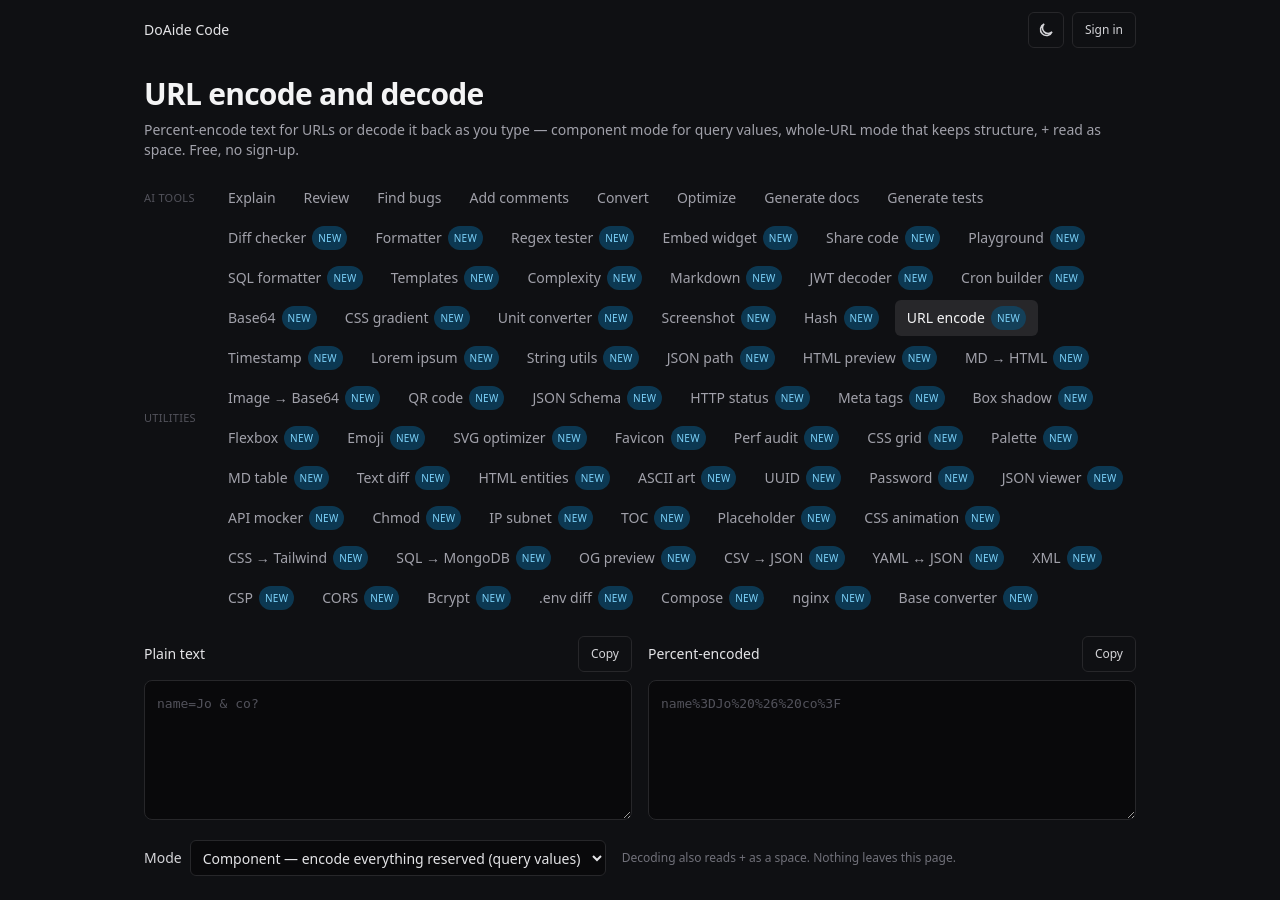
Test case: UrlPage › keeps URL structure in whole-URL mode
Type "https://x.com/a b?q=1" into the text box with test id "url-plain". click: (388, 750)
box: left=144, top=680, right=632, bottom=820
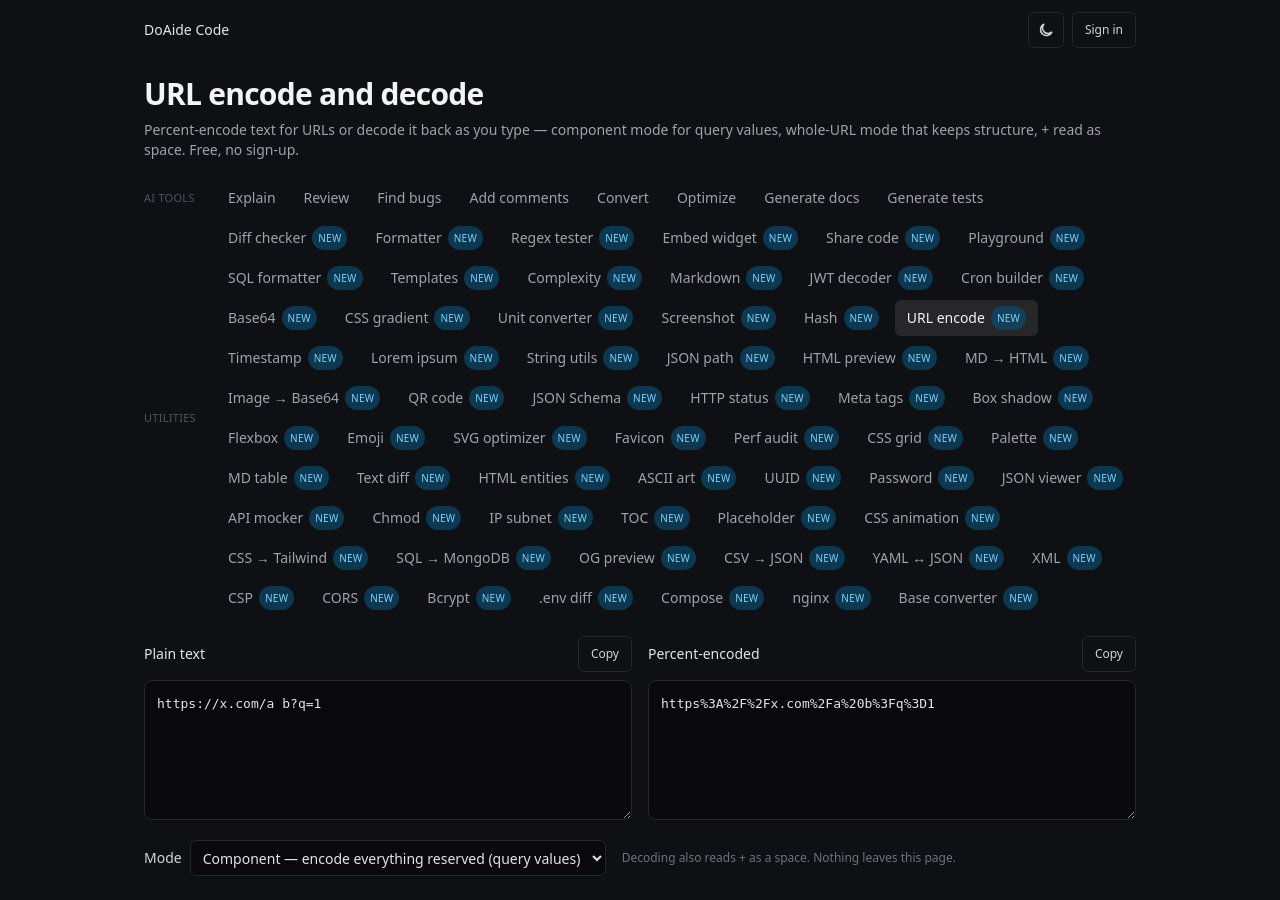
Select "Whole URL — keep :/?#&= structure" in the dropdown with test id "url-mode". click: (398, 858)
box: left=190, top=840, right=606, bottom=876
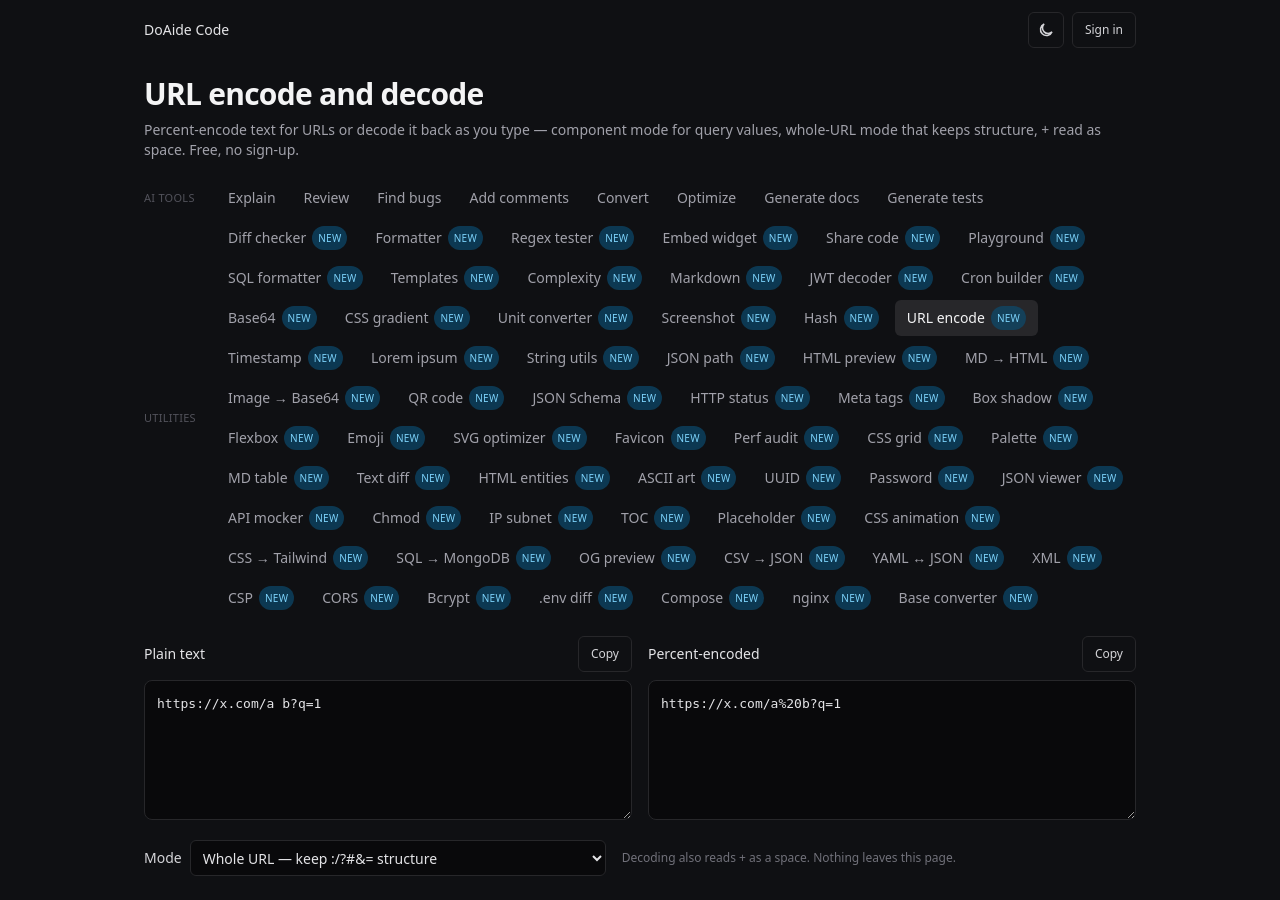
Check: the text box with test id "url-encoded" holds "https://x.com/a%20b?q=1", box left=648, top=680, right=1136, bottom=820
